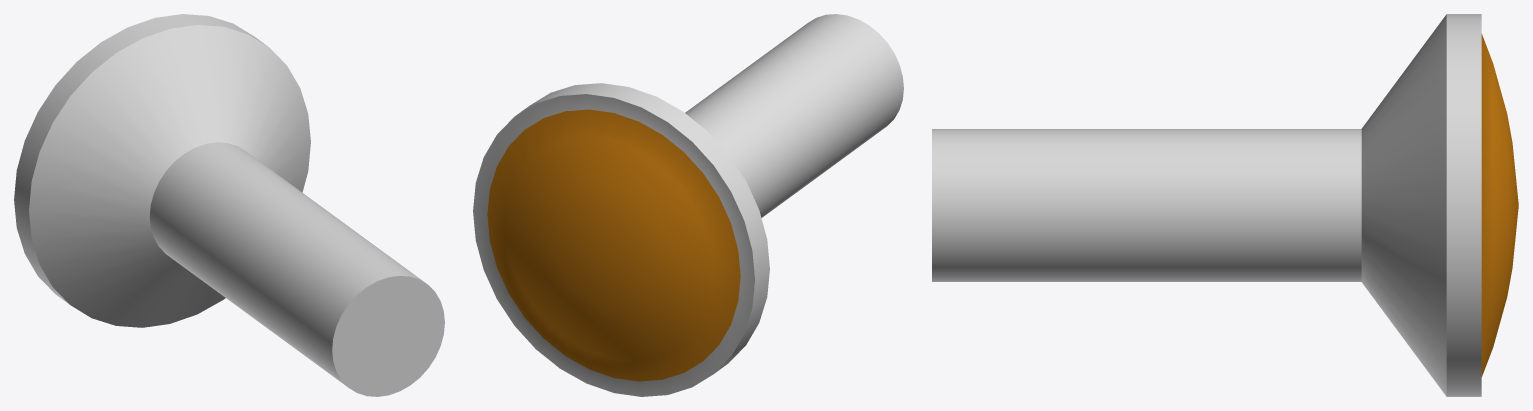
Rendered from FlashLight.fbx.
The picture shows the model from 3 angles, left to right: view 1: azimuth 30°, elevation 25°; view 2: azimuth 150°, elevation 25°; view 3: azimuth 270°, elevation 25°; orthographic projection. The views are drawn at different scales.
Parts seen in each view (by area): view 1: Cylinder; view 2: Cylinder; view 3: Cylinder.
Part boxes in pixels (x1=…): Cylinder: x1=14, y1=14, x2=444, y2=396; Cylinder: x1=473, y1=14, x2=903, y2=396; Cylinder: x1=932, y1=14, x2=1518, y2=396.
Size of the model in its own units: 45 by 45 by 68.86.
